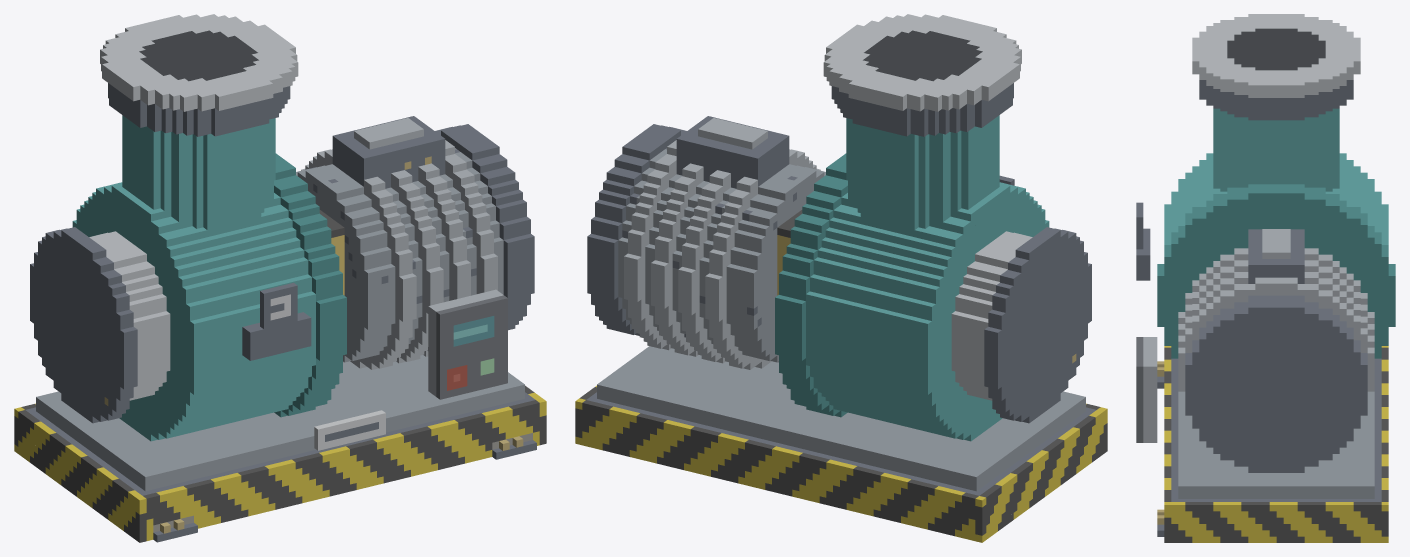
File: pump.glb
3 renders of one model, left to right at view 1: azimuth 30°, elevation 25°; view 2: azimuth 150°, elevation 25°; view 3: azimuth 270°, elevation 25°, orthographic. The views are drawn at different scales.
Visible parts, largest first — view 1: pump; view 2: pump; view 3: pump.
Part boxes in pixels (x1,y1,x2,y2): pump: (14,14,546,542); pump: (575,14,1107,542); pump: (1136,14,1395,542).
Size of the model in its own units: 1.88 by 1.81 by 1.16.
